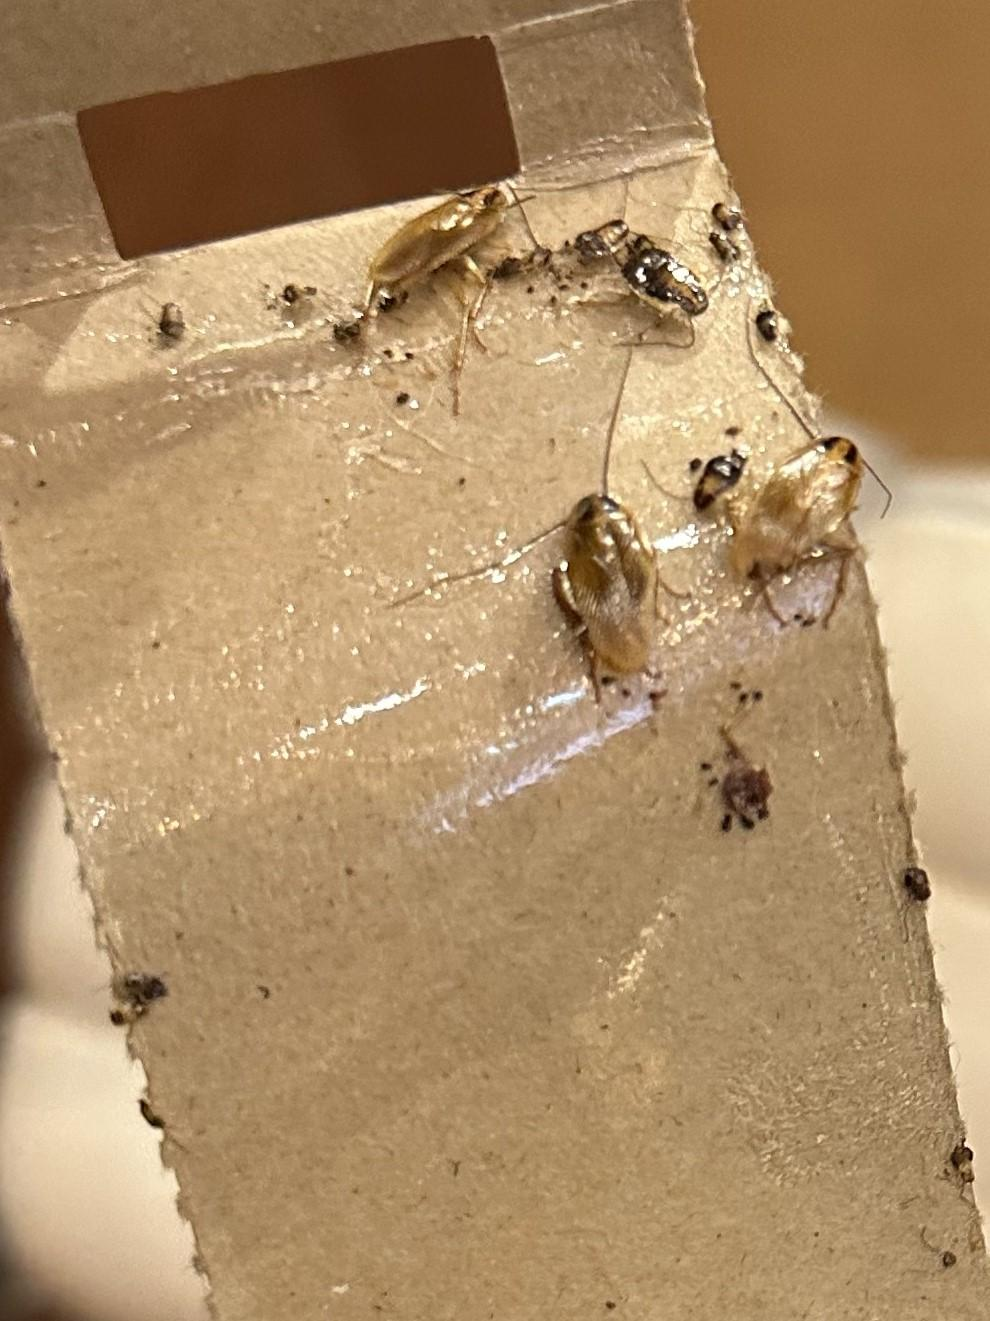cockroach: (388, 433, 669, 741), (695, 413, 915, 645), (317, 160, 527, 371), (563, 196, 717, 387)
